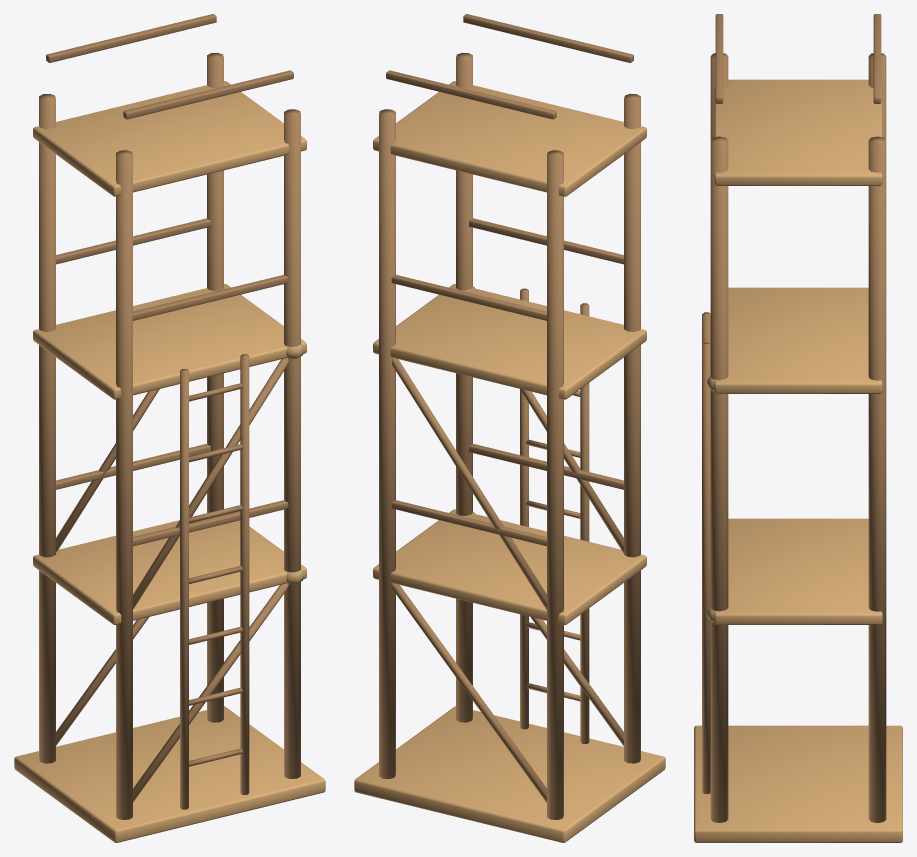
File: lighthouse-scaffold.glb
The picture shows the model from 3 angles, left to right: view 1: azimuth 30°, elevation 25°; view 2: azimuth 150°, elevation 25°; view 3: azimuth 270°, elevation 25°; orthographic projection. The views are drawn at different scales.
Visible parts, largest first — view 1: scaffold; view 2: scaffold; view 3: scaffold.
Part boxes in pixels (x1,y1,x2,y2): scaffold: (14, 14, 325, 842); scaffold: (354, 14, 665, 842); scaffold: (694, 14, 902, 842).
Size of the model in its own units: 0.98 by 3.19 by 0.82.
